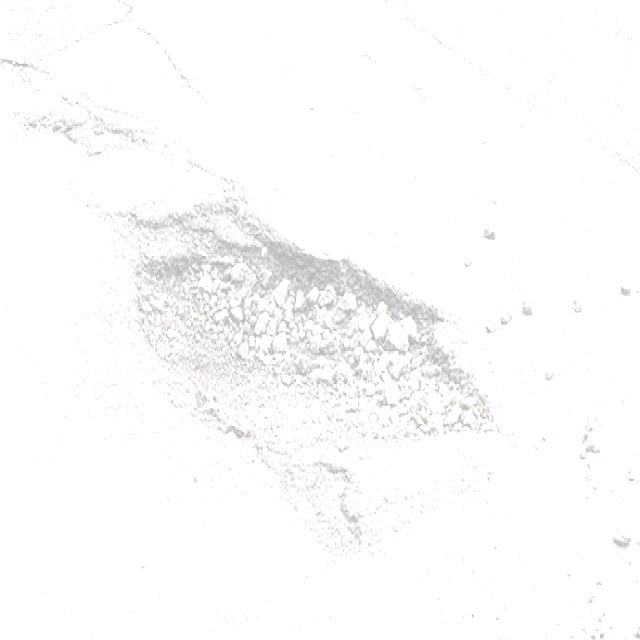Pothole: (10, 29, 501, 579)
